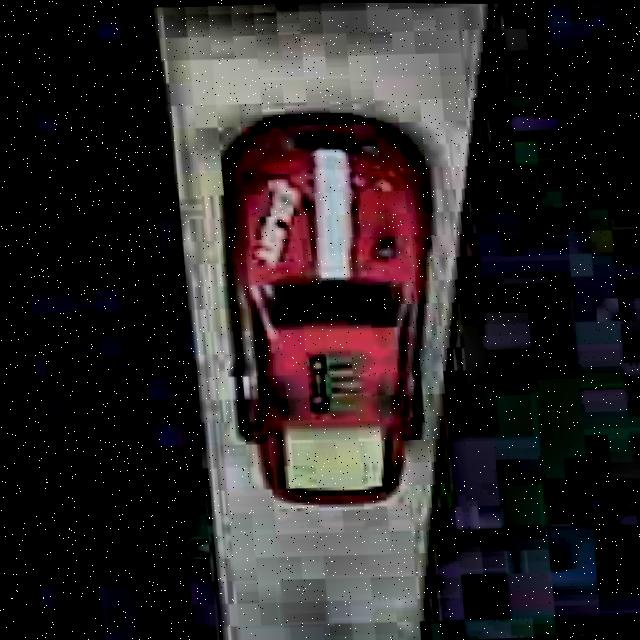car: (204, 100, 464, 518)
